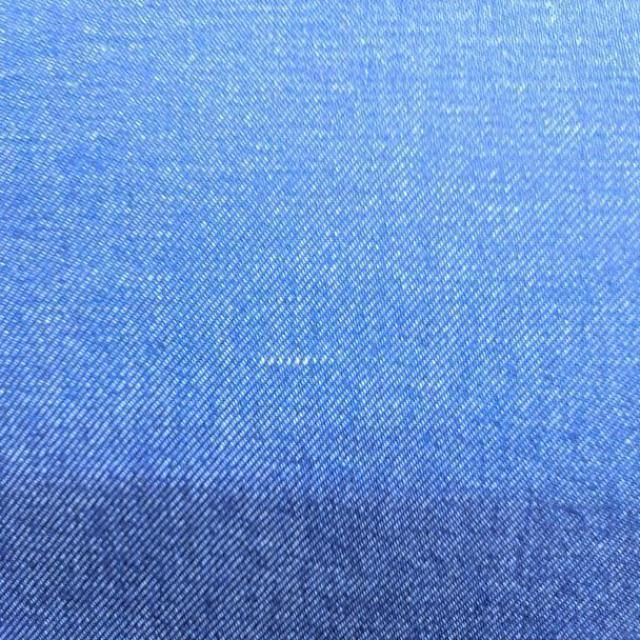Knot: (259, 354, 334, 369)
